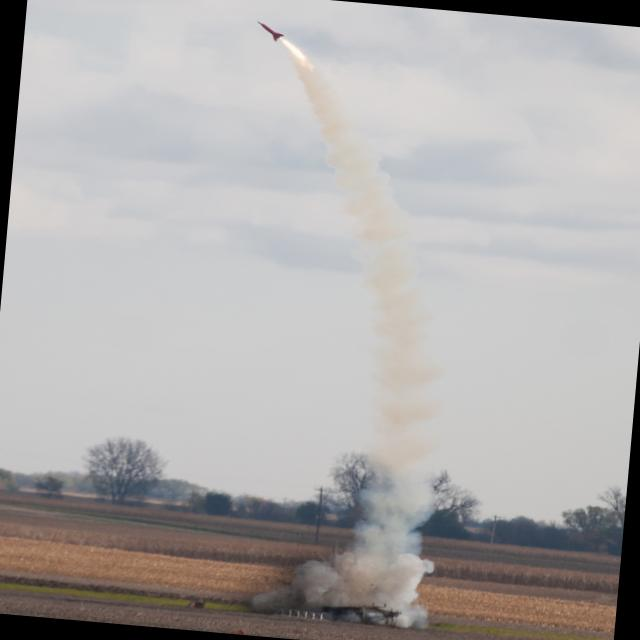rocket: (242, 16, 358, 154)
